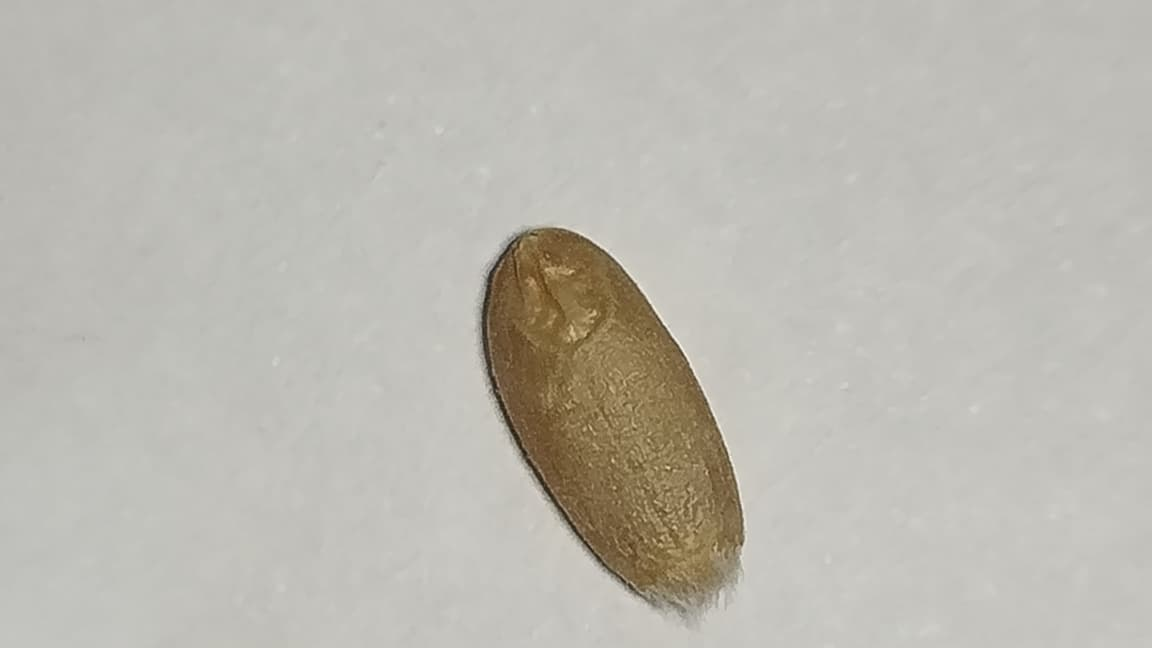healthy: (485, 227, 743, 617)
